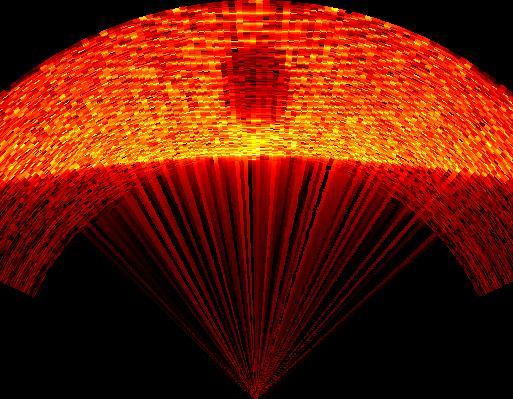box_crate: (221, 38, 299, 162)
